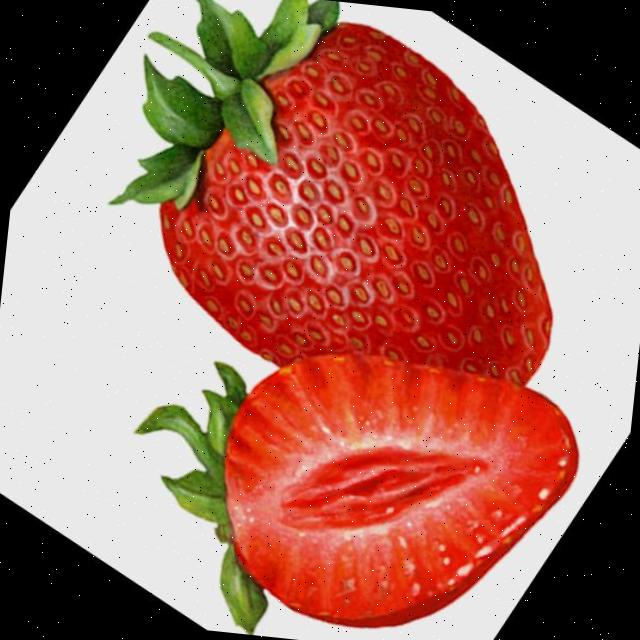strawberry: (111, 0, 550, 382), (136, 353, 577, 633)
